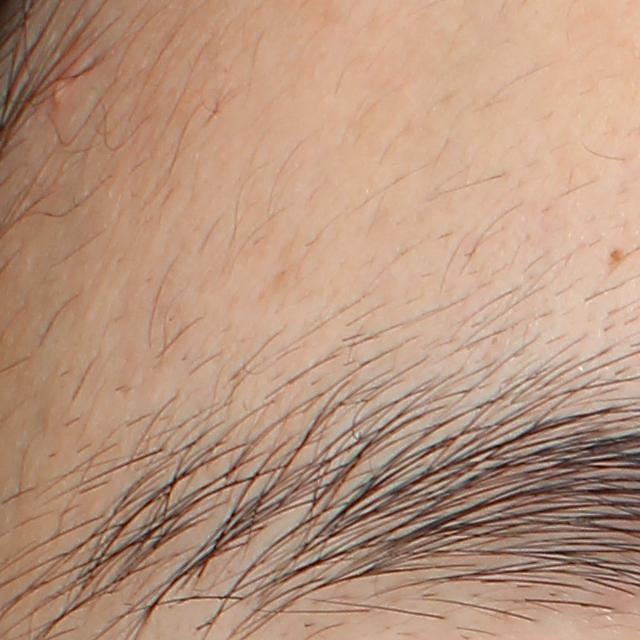nevus: (609, 247, 626, 265)
